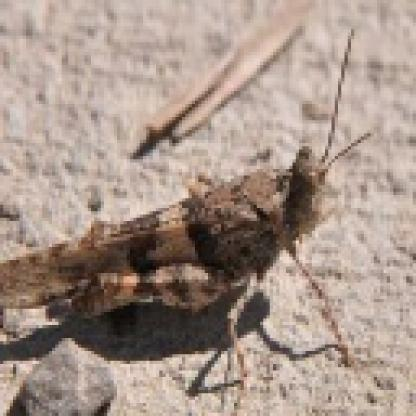grasshopper: (0, 74, 381, 394)
